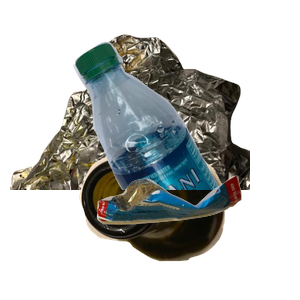glass: (77, 147, 295, 300)
metal: (10, 32, 250, 212)
plastic: (71, 39, 300, 219)
trash: (94, 173, 300, 300)
